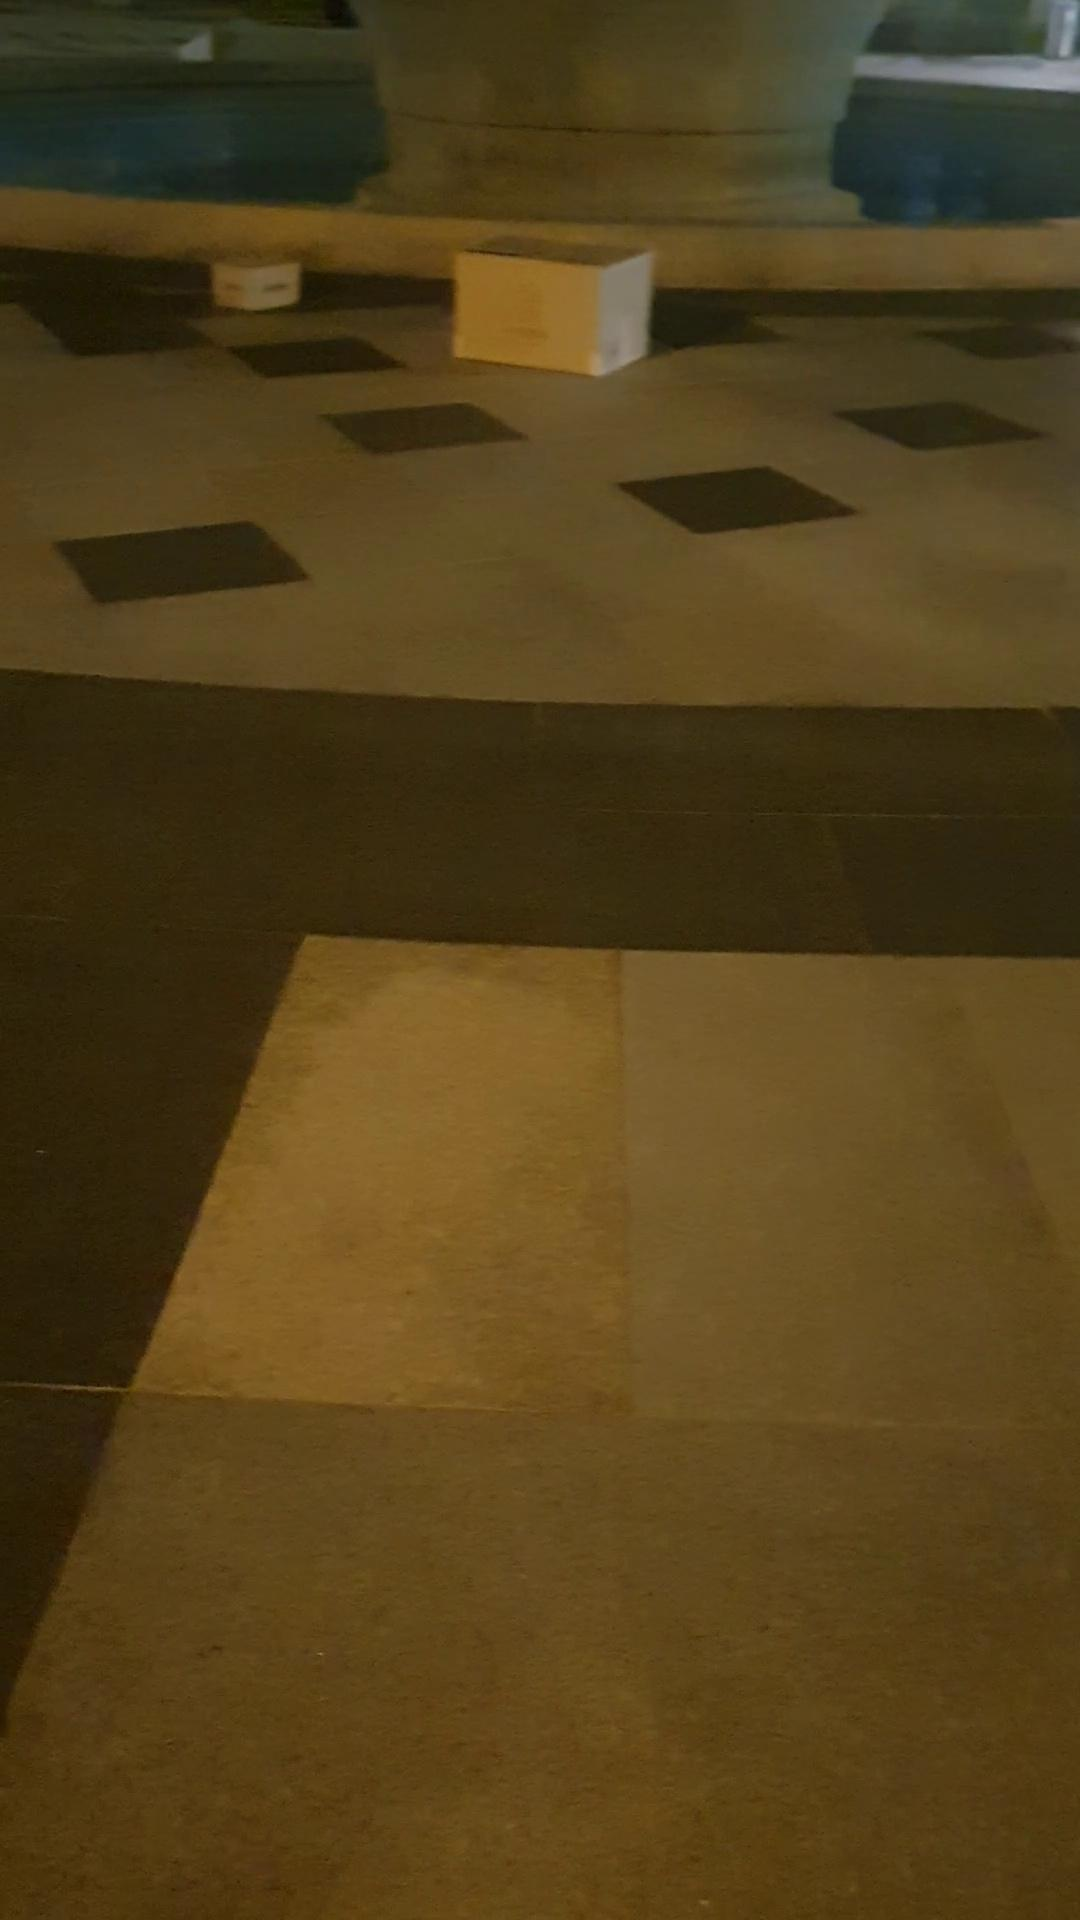Box: (456, 225, 655, 364), (196, 235, 324, 313)
